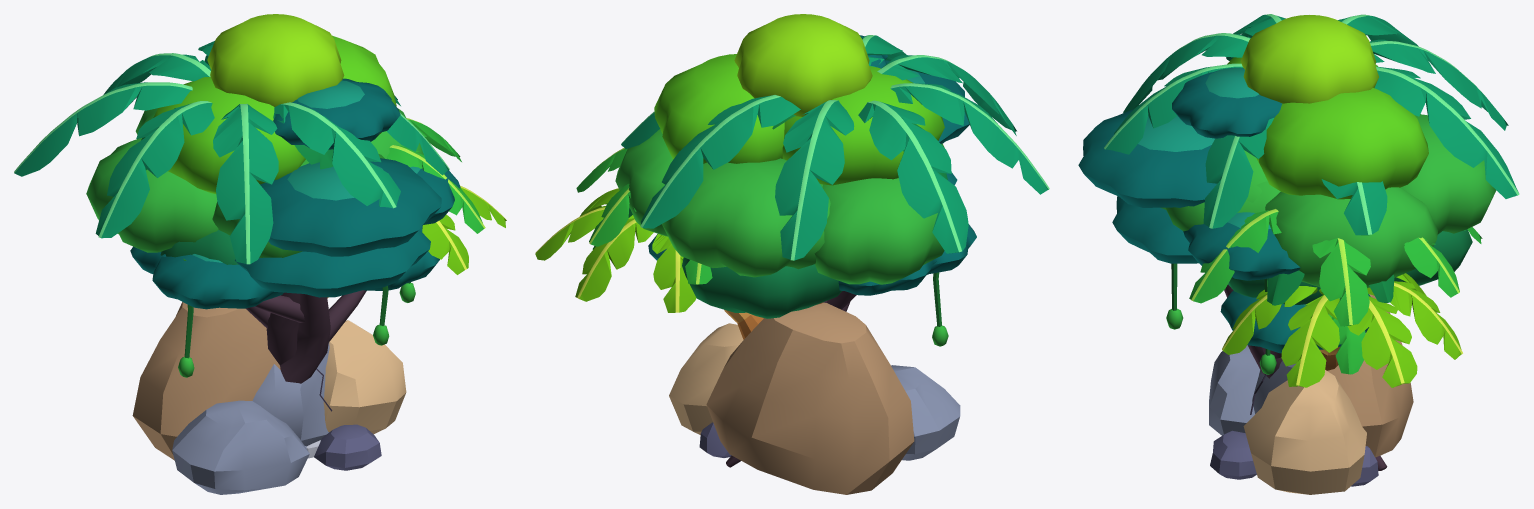
File: nature.glb
3 views of the same model, side by side, from view 1: azimuth 30°, elevation 25°; view 2: azimuth 150°, elevation 25°; view 3: azimuth 270°, elevation 25° (orthographic).
Visible parts, largest first — view 1: CliffRock, Palm_B, Jungle_B, Ironwood_A, Ironwood_B, Boulder, Palm_A, Palm_C, Jungle_A; view 2: Jungle_B, CliffRock, Palm_B, Palm_C, Jungle_A, Ironwood_A, Palm_A, Ironwood_B, Boulder; view 3: Jungle_B, Palm_B, CliffRock, Ironwood_A, Palm_C, Palm_A, Ironwood_B, Jungle_A, Boulder.
Part boxes in pixels (bbox=[...]): CliffRock: bbox=[132, 302, 406, 494]; Palm_B: bbox=[14, 41, 449, 264]; Jungle_B: bbox=[86, 14, 423, 377]; Ironwood_A: bbox=[130, 78, 460, 365]; Ironwood_B: bbox=[152, 225, 439, 383]; Boulder: bbox=[252, 342, 332, 446]; Palm_A: bbox=[387, 118, 485, 233]; Palm_C: bbox=[327, 185, 506, 298]; Jungle_A: bbox=[160, 230, 238, 264]; Jungle_B: bbox=[615, 14, 948, 346]; CliffRock: bbox=[669, 302, 960, 494]; Palm_B: bbox=[621, 35, 1049, 260]; Palm_C: bbox=[535, 188, 763, 339]; Jungle_A: bbox=[682, 257, 841, 318]; Ironwood_A: bbox=[823, 35, 969, 311]; Palm_A: bbox=[576, 148, 712, 284]; Ironwood_B: bbox=[648, 172, 976, 467]; Boulder: bbox=[699, 422, 731, 457]; Jungle_B: bbox=[1160, 15, 1496, 374]; Palm_B: bbox=[1104, 14, 1519, 235]; CliffRock: bbox=[1209, 294, 1413, 494]; Ironwood_A: bbox=[1078, 67, 1300, 280]; Palm_C: bbox=[1222, 273, 1462, 387]; Palm_A: bbox=[1189, 209, 1482, 326]; Ironwood_B: bbox=[1112, 196, 1387, 470]; Jungle_A: bbox=[1228, 181, 1472, 304]; Boulder: bbox=[1250, 360, 1378, 486].
Size of the model in its own units: 10.07 by 9.69 by 8.73.
Materials: 6 (5 with a texture image).
